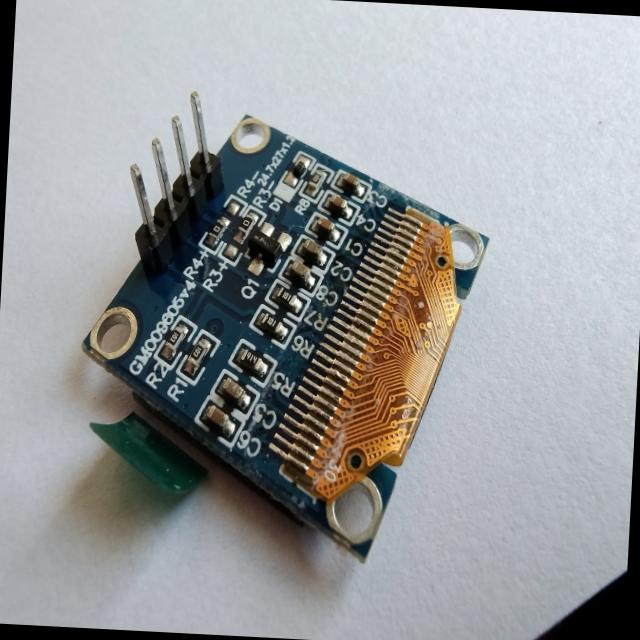oled: (67, 64, 504, 614)
